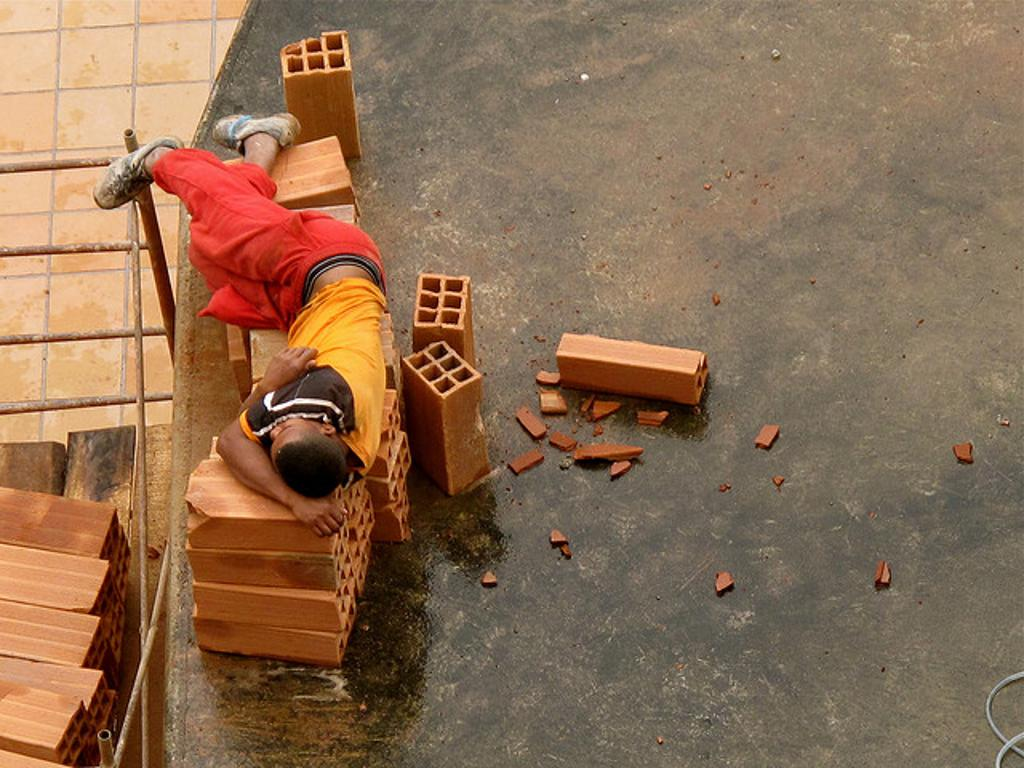face: (268, 416, 322, 468)
